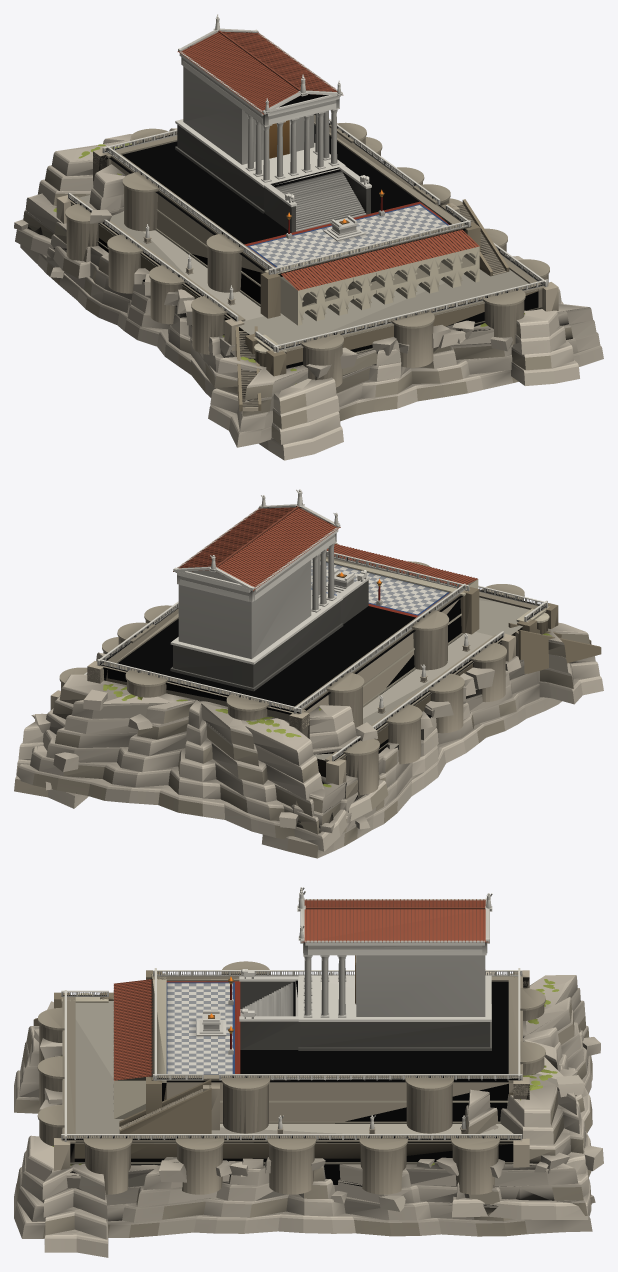
Rendered from rome_magna_mater.glb.
3 renders of one model, top to bottom at view 1: azimuth 30°, elevation 25°; view 2: azimuth 150°, elevation 25°; view 3: azimuth 270°, elevation 25°, orthographic. The views are drawn at different scales.
Visible parts, largest first — view 1: rome_magna_mater; view 2: rome_magna_mater; view 3: rome_magna_mater.
Boxes of the visible parts, box(x1,y1,x2,y2) form: rome_magna_mater: box(14, 14, 603, 460); rome_magna_mater: box(14, 489, 603, 858); rome_magna_mater: box(14, 887, 603, 1257).
Bounding box in the file's own units: 80.78 × 53.51 × 103.
